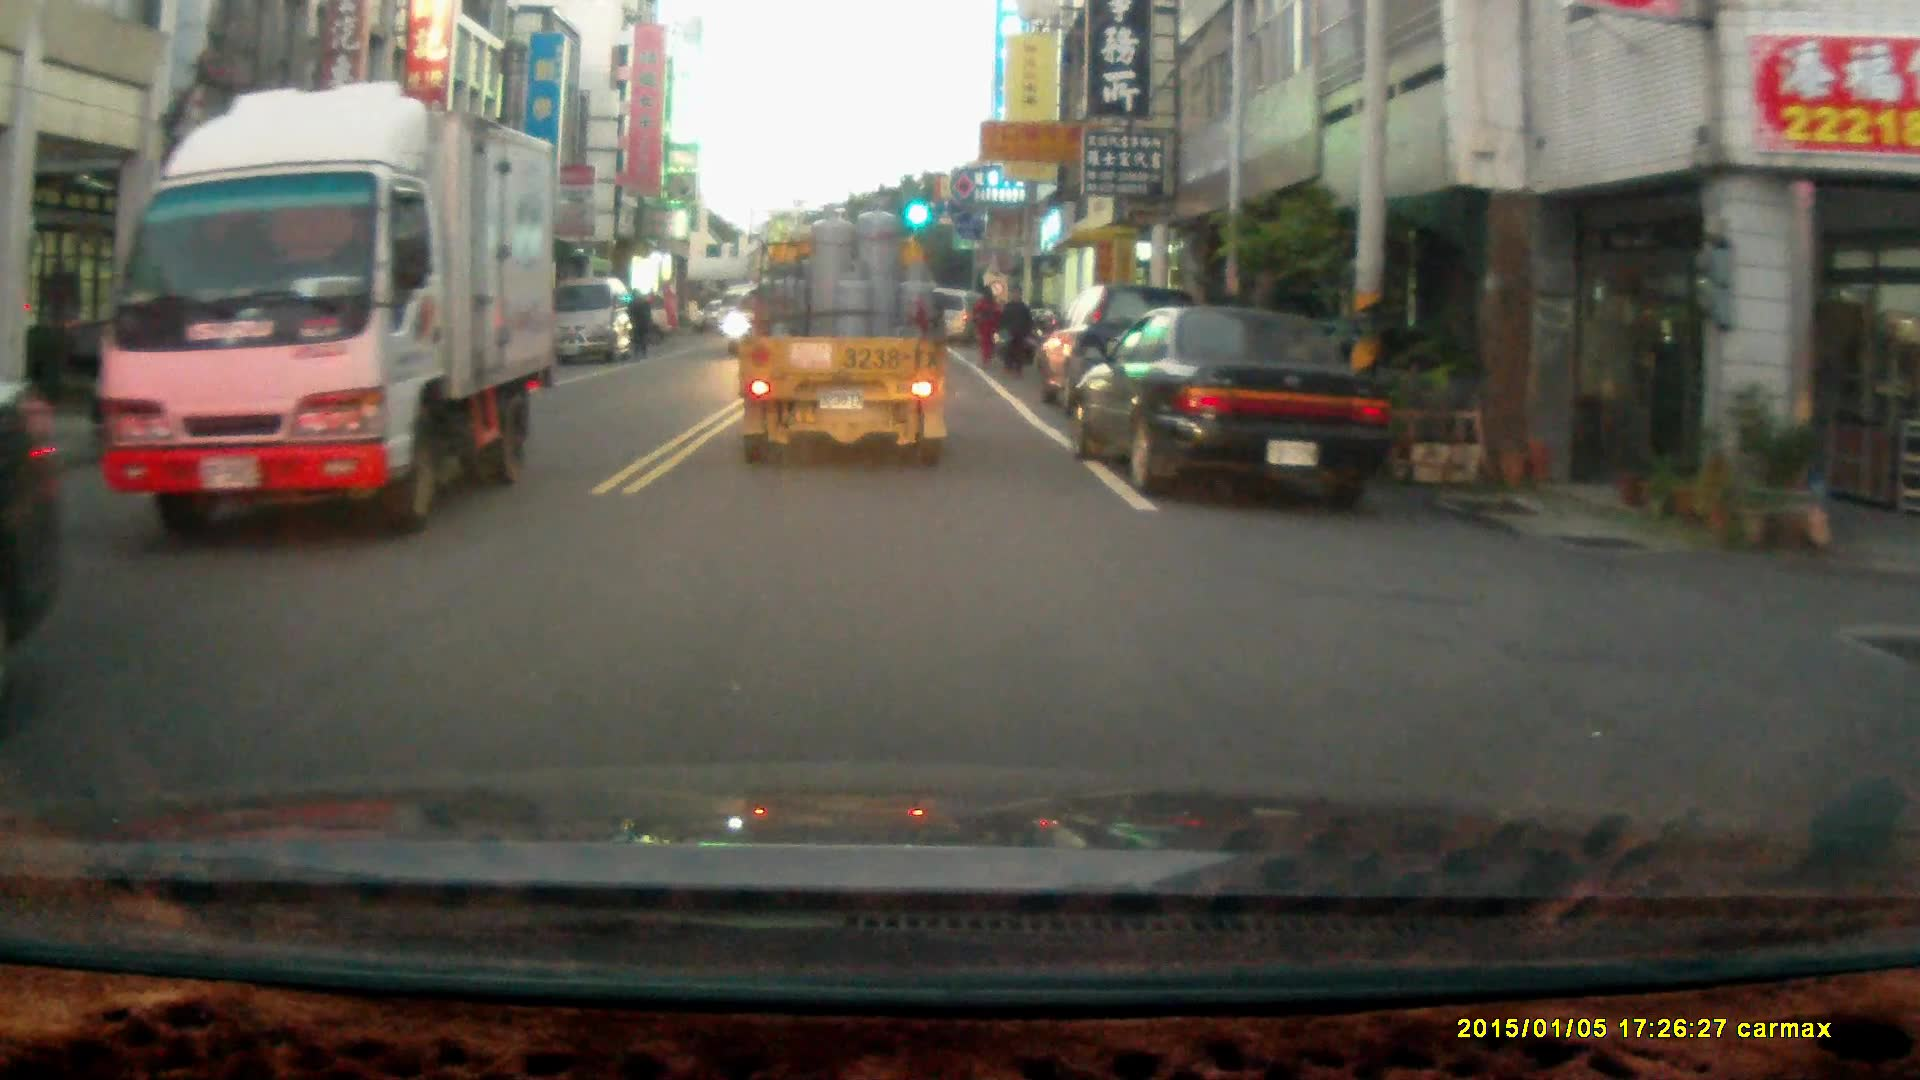pedestrian: (994, 279, 1031, 378), (968, 284, 1002, 367), (623, 289, 653, 361)
vehicle: (83, 84, 555, 539), (1073, 307, 1395, 505), (734, 193, 954, 472), (1033, 280, 1228, 420), (1, 383, 73, 649), (563, 277, 640, 366)
